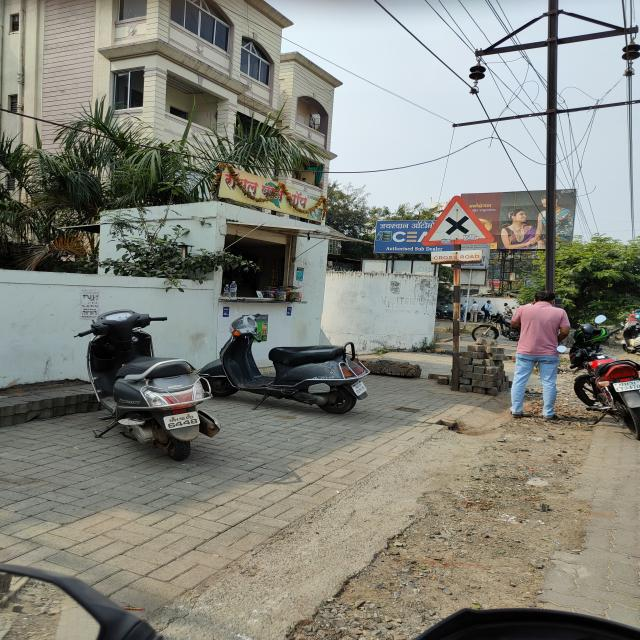cross_road: (419, 196, 494, 248)
